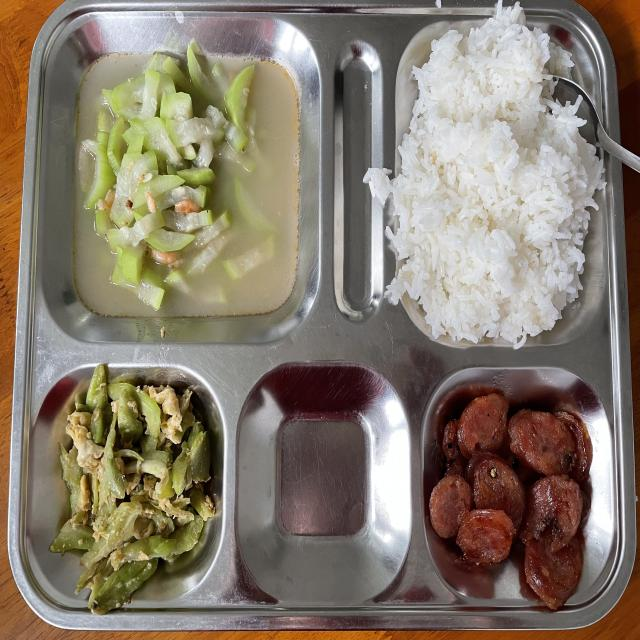canh bau: (73, 36, 300, 314)
com: (364, 3, 606, 349)
kho qua: (50, 365, 215, 614)
